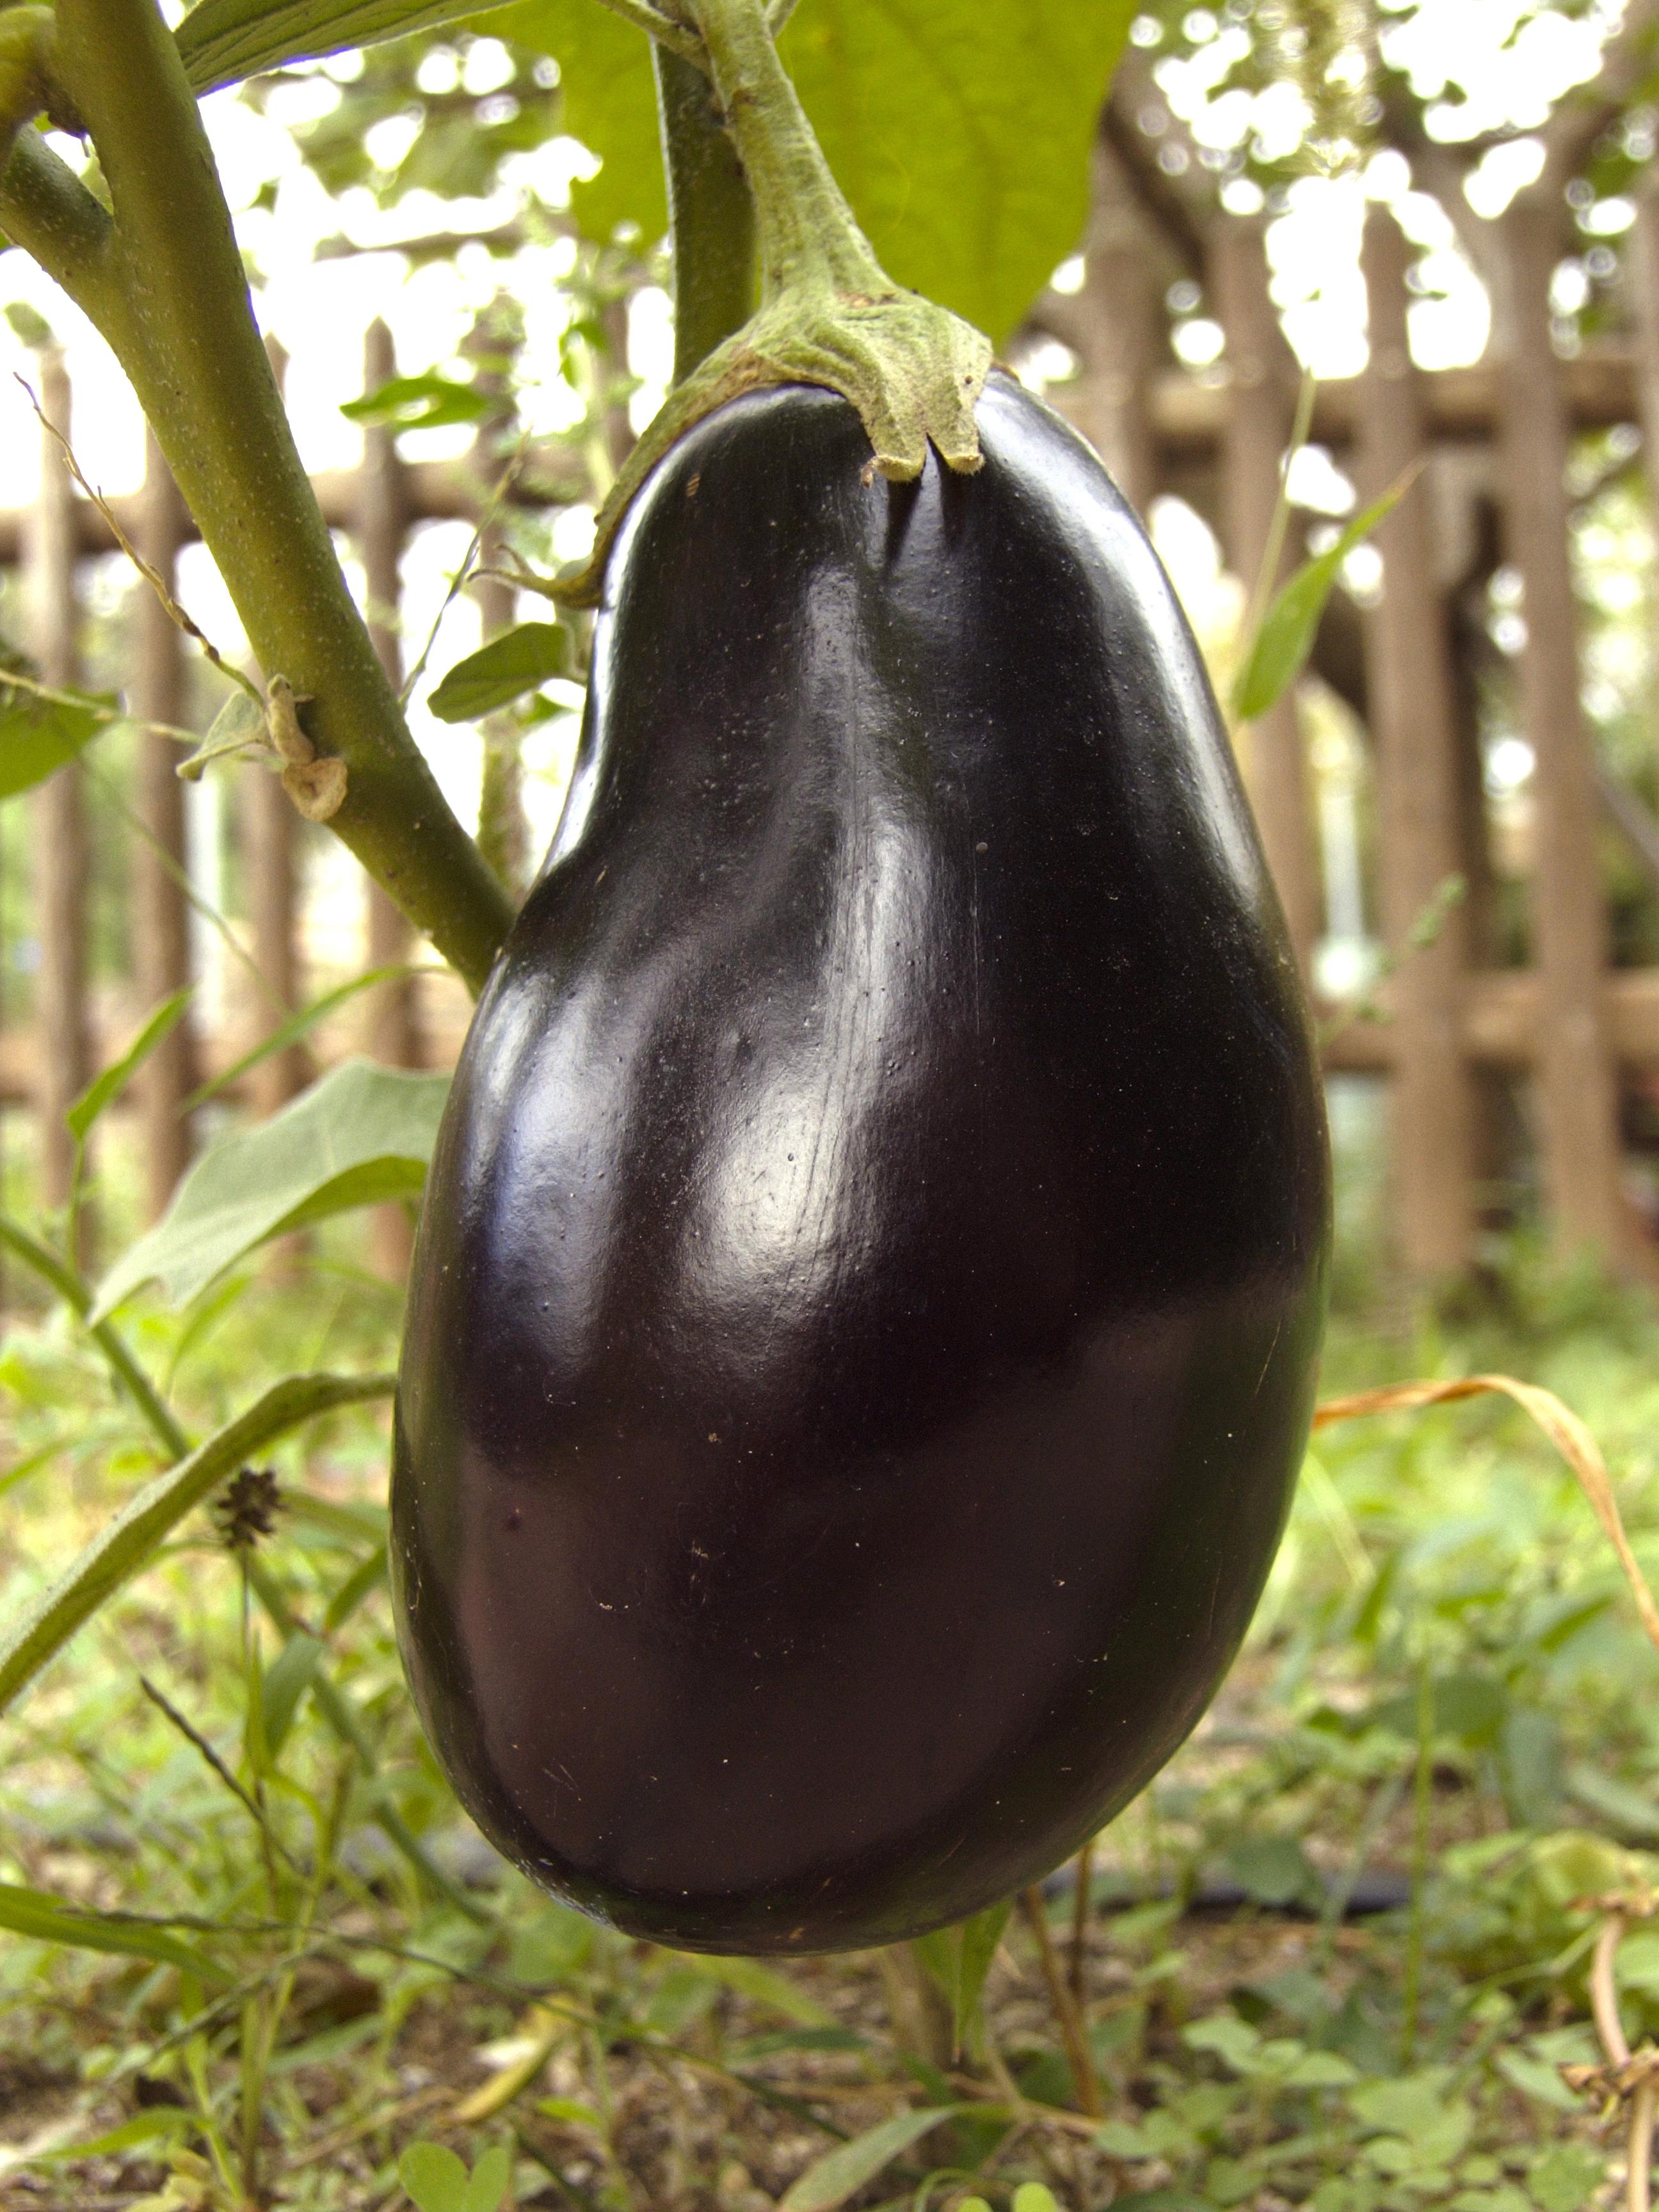eggplant: (383, 345, 1335, 1959)
